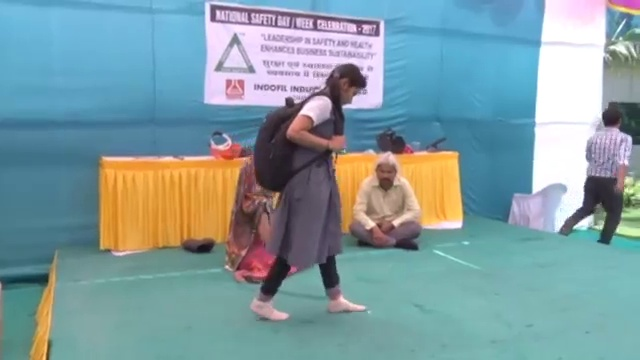helmet_off: (325, 64, 366, 107), (376, 155, 397, 188), (600, 107, 623, 129)
person: (249, 64, 367, 321), (556, 106, 633, 245), (226, 157, 301, 283), (347, 151, 424, 247)
